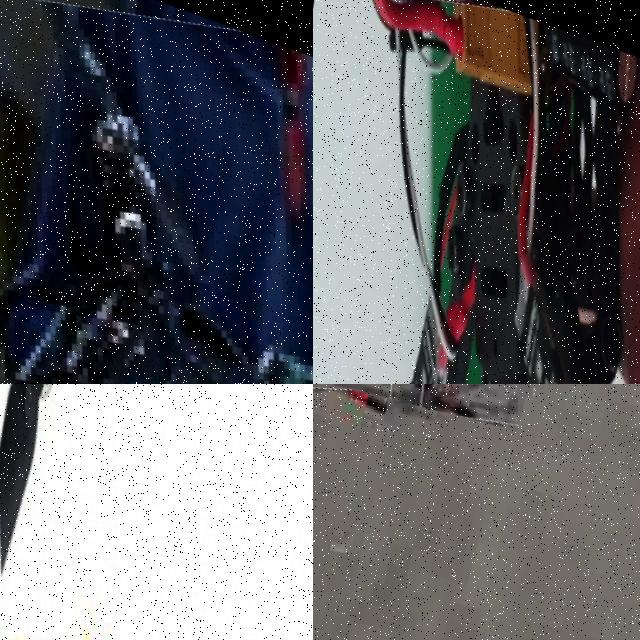drone: (313, 0, 640, 384), (0, 0, 313, 384), (0, 384, 215, 640)
